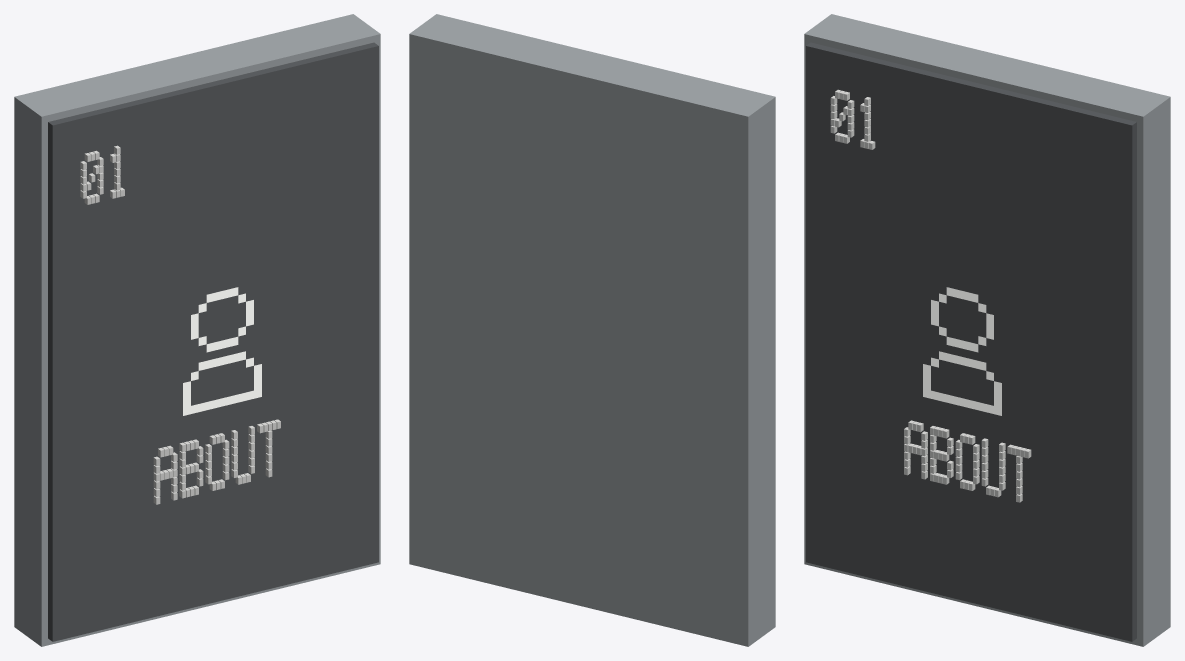
The model's file is BTNabout.glb.
3 views of the same model, side by side, from view 1: azimuth 30°, elevation 25°; view 2: azimuth 150°, elevation 25°; view 3: azimuth 330°, elevation 25° (orthographic).
Visible parts, largest first — view 1: About_button, About_button_edge, About_text, About_icon; view 2: About_button_edge; view 3: About_button, About_button_edge, About_text, About_icon.
Part boxes in pixels (left/top/right/bottom): About_button: left=48, top=42, right=378, bottom=641; About_button_edge: left=14, top=14, right=380, bottom=646; About_text: left=80, top=145, right=280, bottom=504; About_icon: left=183, top=287, right=261, bottom=415; About_button_edge: left=409, top=14, right=775, bottom=646; About_button: left=806, top=42, right=1136, bottom=641; About_button_edge: left=804, top=14, right=1170, bottom=646; About_text: left=830, top=89, right=1031, bottom=502; About_icon: left=923, top=287, right=1001, bottom=415.
Size of the model in its own units: 0.6452 by 0.9634 by 0.127.
Materials: 4 (1 with a texture image).
